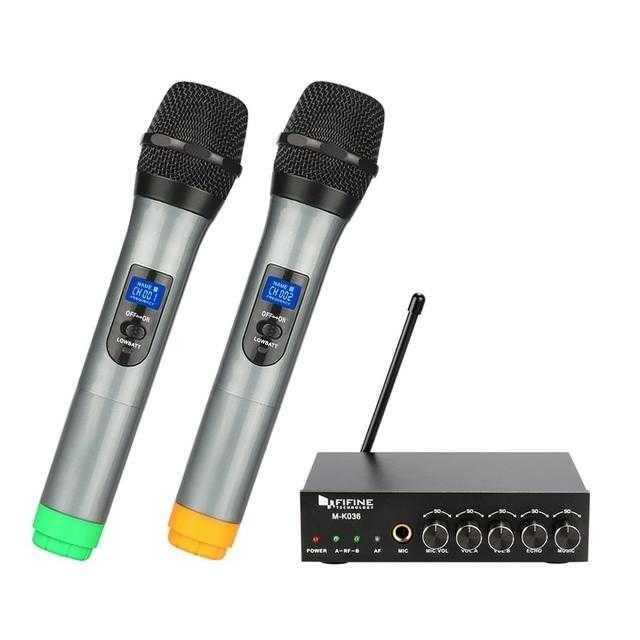microphone: (162, 92, 381, 562), (32, 87, 244, 554)
